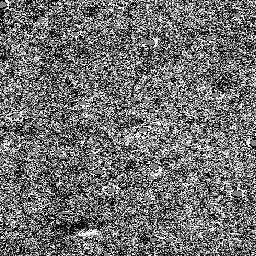LE: (65, 219, 107, 244)
